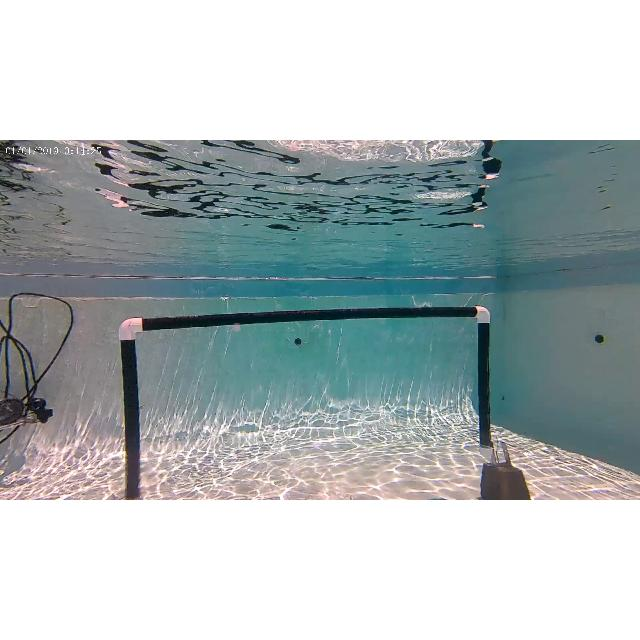prequal gate: (120, 304, 492, 500)
prequal gate leg l: (114, 316, 156, 500)
prequal gate leg r: (468, 304, 534, 501)
